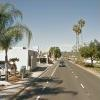Palm tree: (4, 4, 22, 86)
